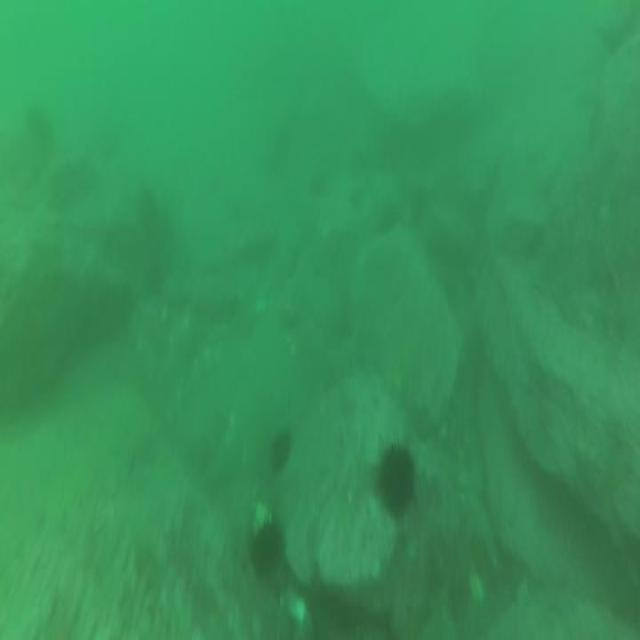echinus: (374, 441, 419, 523), (247, 512, 287, 585), (310, 589, 359, 640), (22, 101, 59, 157), (267, 422, 296, 474), (374, 194, 404, 240), (308, 164, 330, 204), (346, 180, 368, 212)
